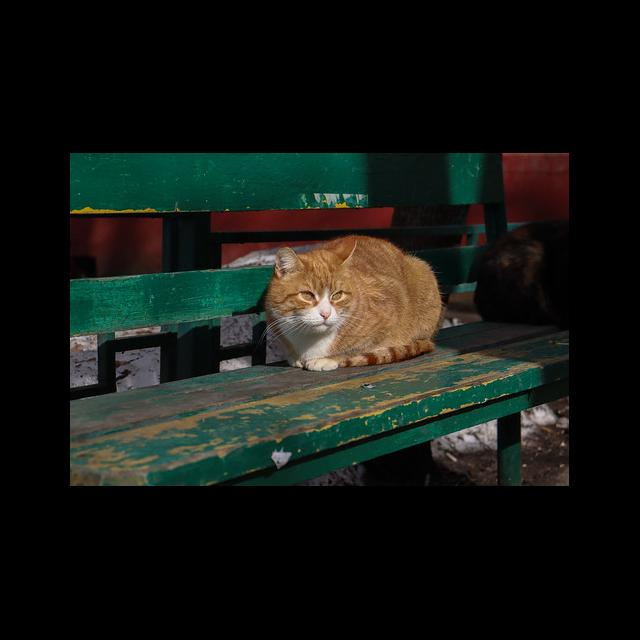animals: (265, 236, 443, 372)
